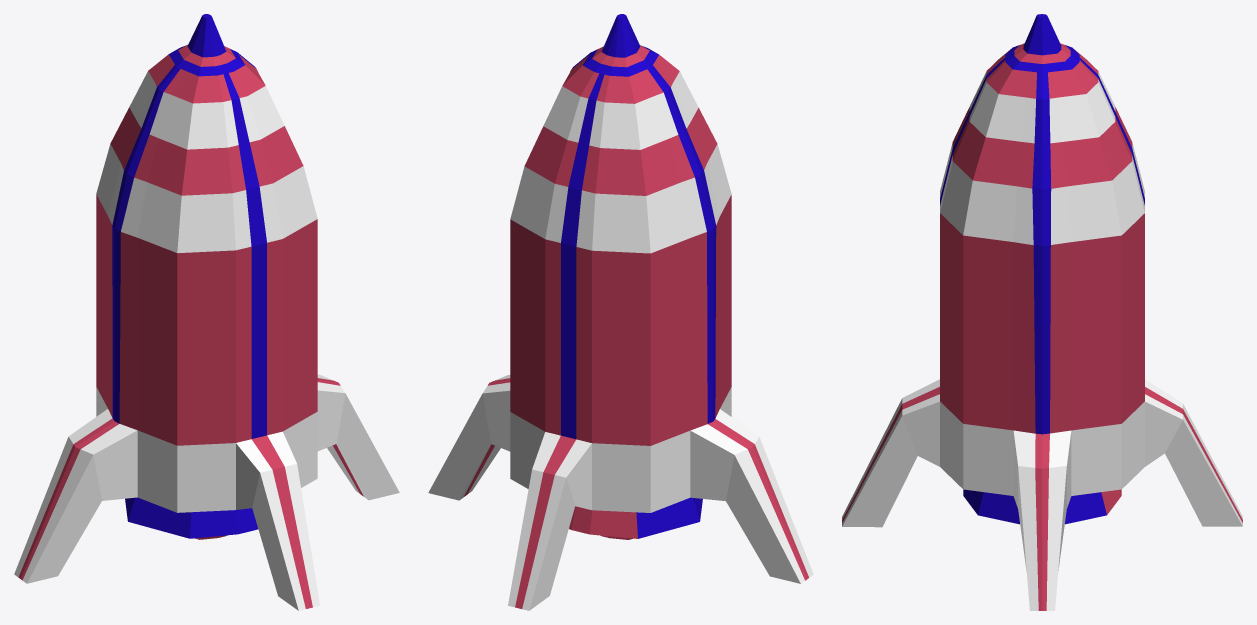
The model's file is anotherSpaceship.fbx.
3 renders of one model, left to right at view 1: azimuth 30°, elevation 25°; view 2: azimuth 150°, elevation 25°; view 3: azimuth 270°, elevation 25°, orthographic. The views are drawn at different scales.
Visible parts, largest first — view 1: Cube; view 2: Cube; view 3: Cube.
Boxes of the visible parts, x1,y1,x2,y2 form: Cube: (14,14,399,610); Cube: (428,14,813,610); Cube: (842,14,1242,610).
Bounding box in the file's own units: 531 × 705 × 505.
